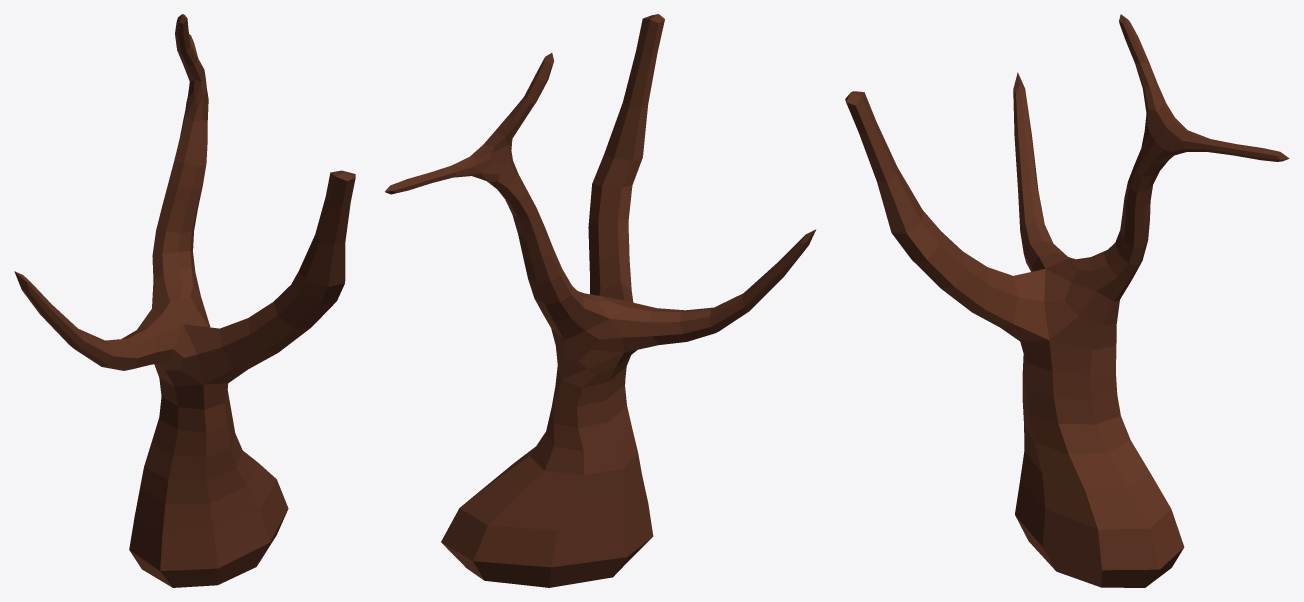
File: snowytree1_export.fbx
3 views of the same model, side by side, from view 1: azimuth 30°, elevation 25°; view 2: azimuth 150°, elevation 25°; view 3: azimuth 270°, elevation 25° (orthographic). The views are drawn at different scales.
Parts seen in each view (by area): view 1: Icosphere.005; view 2: Icosphere.005; view 3: Icosphere.005.
Part boxes in pixels (box(x1,y1,x2,y2)): Icosphere.005: box(14, 14, 355, 587); Icosphere.005: box(385, 14, 816, 587); Icosphere.005: box(845, 14, 1289, 587).
Bounding box in the file's own units: 4.95 × 8.2 × 6.04.
